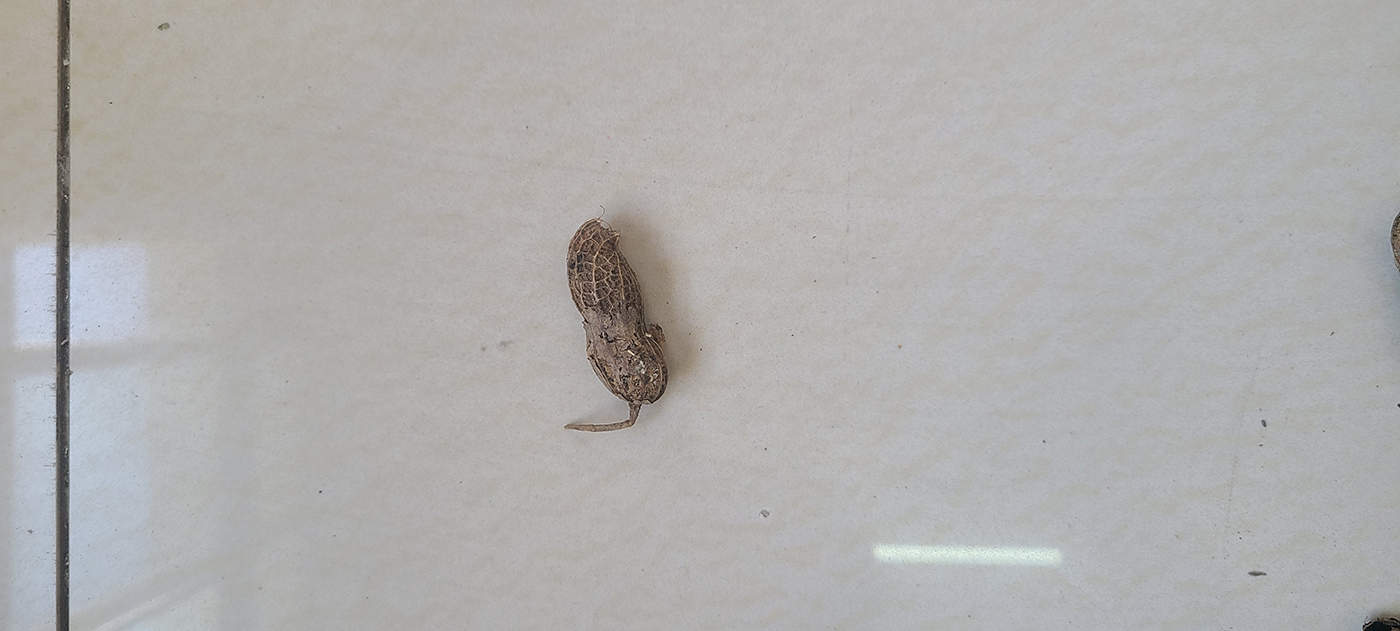l: (565, 218, 669, 404)
